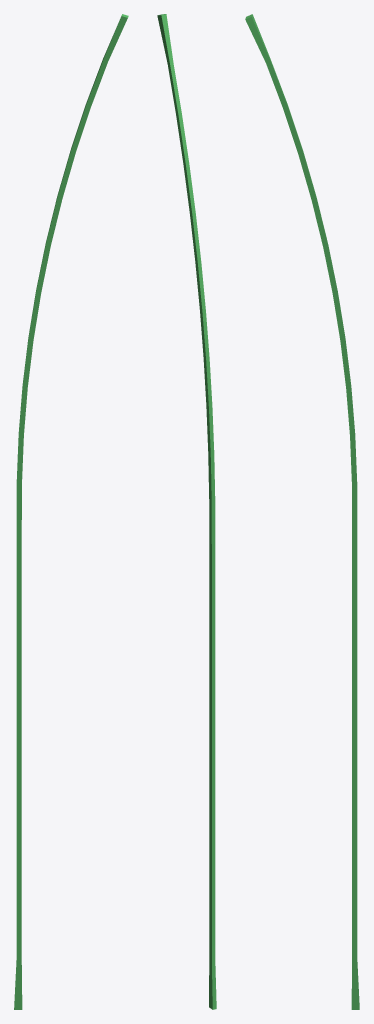
File: jungle_slime_D.fbx
3 renders of one model, left to right at view 1: azimuth 90°, elevation 25°; view 2: azimuth 210°, elevation 25°; view 3: azimuth 270°, elevation 25°, orthographic. The views are drawn at different scales.
Parts seen in each view (by area): view 1: jungle_slime_D; view 2: jungle_slime_D; view 3: jungle_slime_D.
Part boxes in pixels (x1,y1,x2,y2): jungle_slime_D: [14, 14, 128, 1009]; jungle_slime_D: [157, 14, 216, 1009]; jungle_slime_D: [245, 14, 359, 1009].
Bounding box in the file's own units: 4.2 × 676 × 70.69.
